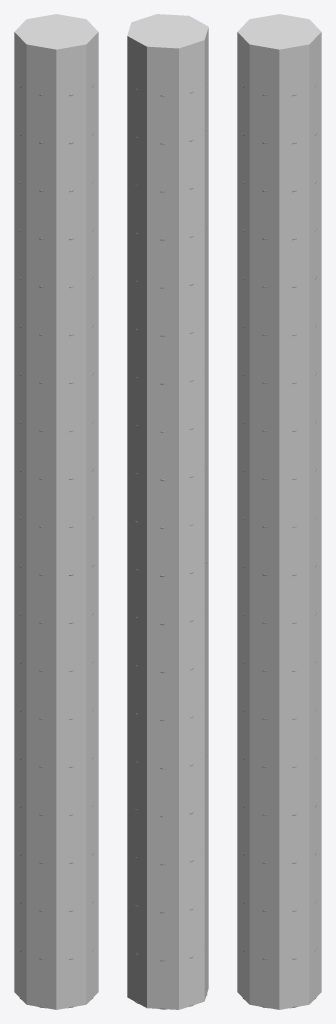
Rendered from Tower.gltf.
3 renders of one model, left to right at view 1: azimuth 90°, elevation 25°; view 2: azimuth 150°, elevation 25°; view 3: azimuth 270°, elevation 25°, orthographic.
Parts seen in each view (by area): view 1: COL, building_003; view 2: COL, building_003; view 3: COL, building_003.
Part boxes in pixels (x1,y1,x2,y2): COL: [14, 14, 98, 1009]; building_003: [19, 85, 93, 1008]; COL: [127, 14, 208, 1009]; building_003: [135, 81, 207, 1009]; COL: [237, 14, 321, 1009]; building_003: [242, 85, 316, 1008].
Size of the model in its own units: 13.1 by 165 by 13.1.
1 material, 1 textured.
